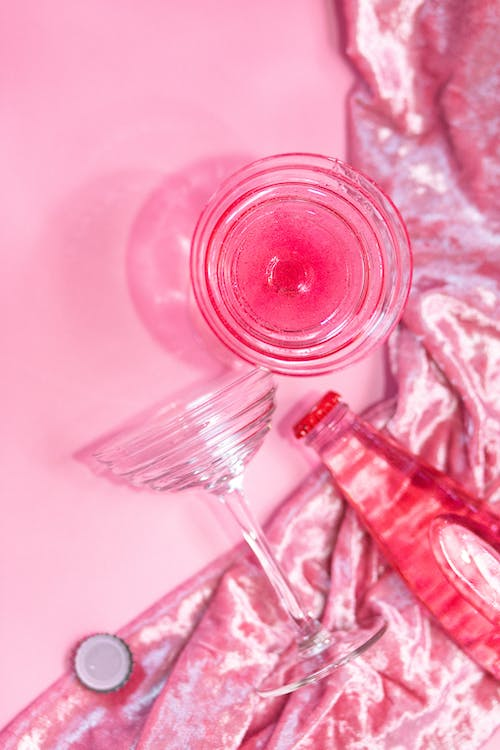alcohol: (89, 363, 391, 699), (291, 387, 500, 684), (187, 150, 415, 379)
